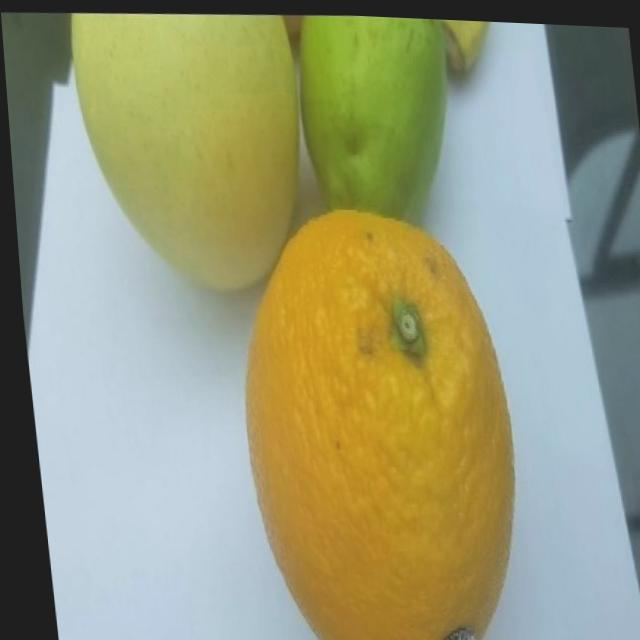Banana: (430, 15, 498, 77)
Orange: (215, 191, 528, 640)
